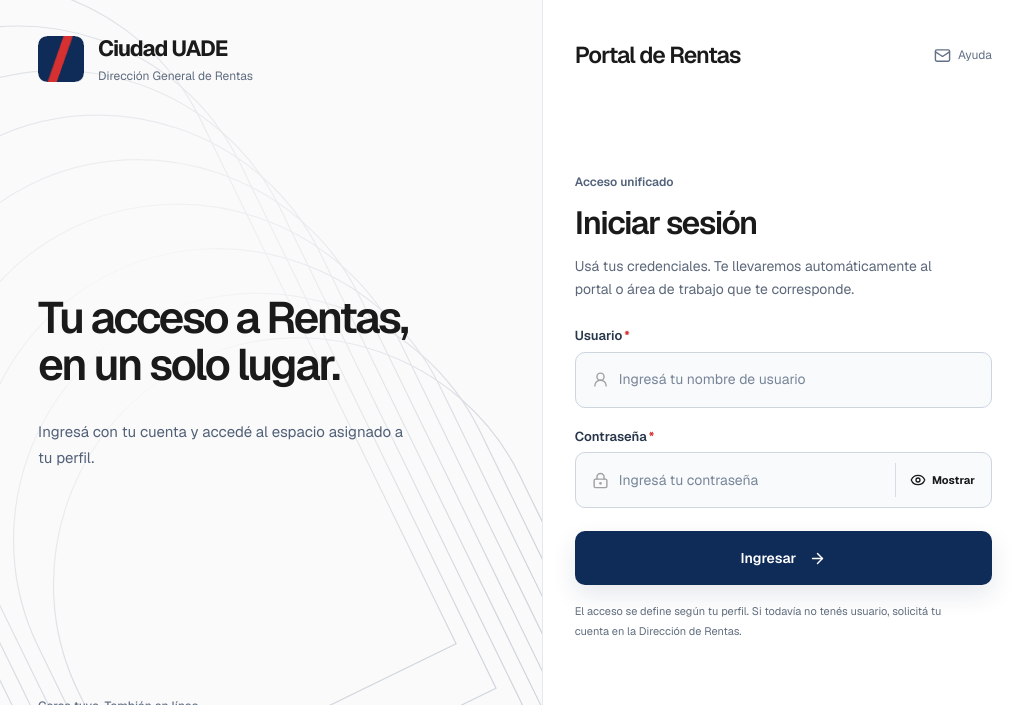
ingreso al área de trabajo › deriva al agente a su área después de autenticarlo
The width and height of the screenshot is (1024, 705).
Type "mrivas" into the field labelled "Usuario*" at coordinates (797, 380), box 619,366 -> 975,394
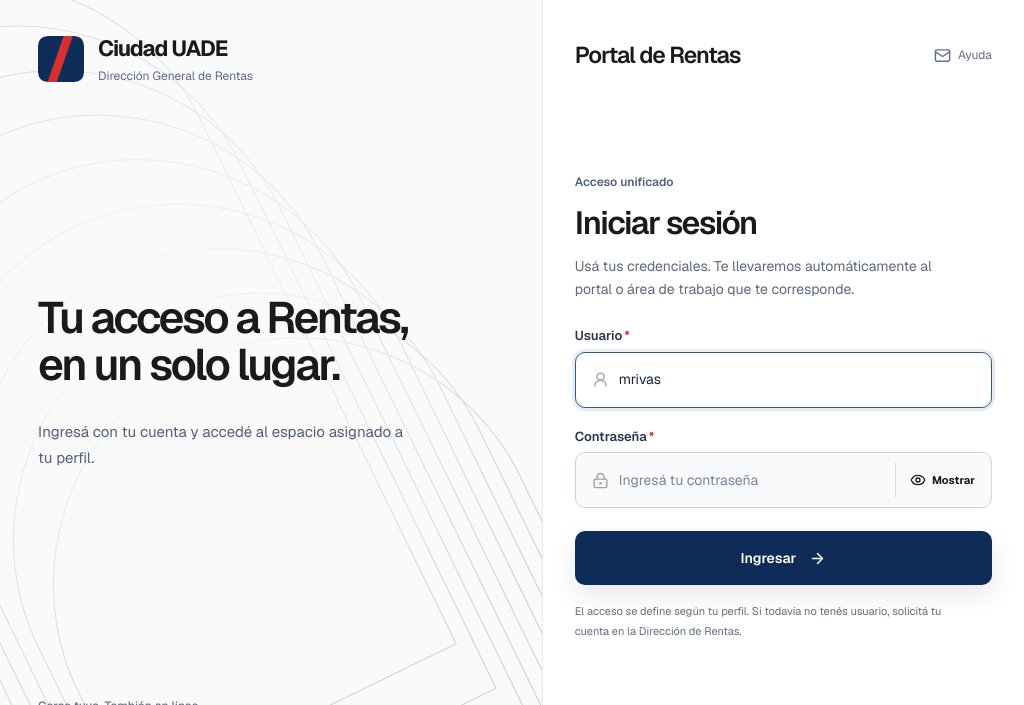
Type "rentas123" into the password field labelled "Contraseña*" at coordinates (750, 480), box 619,466 -> 881,494
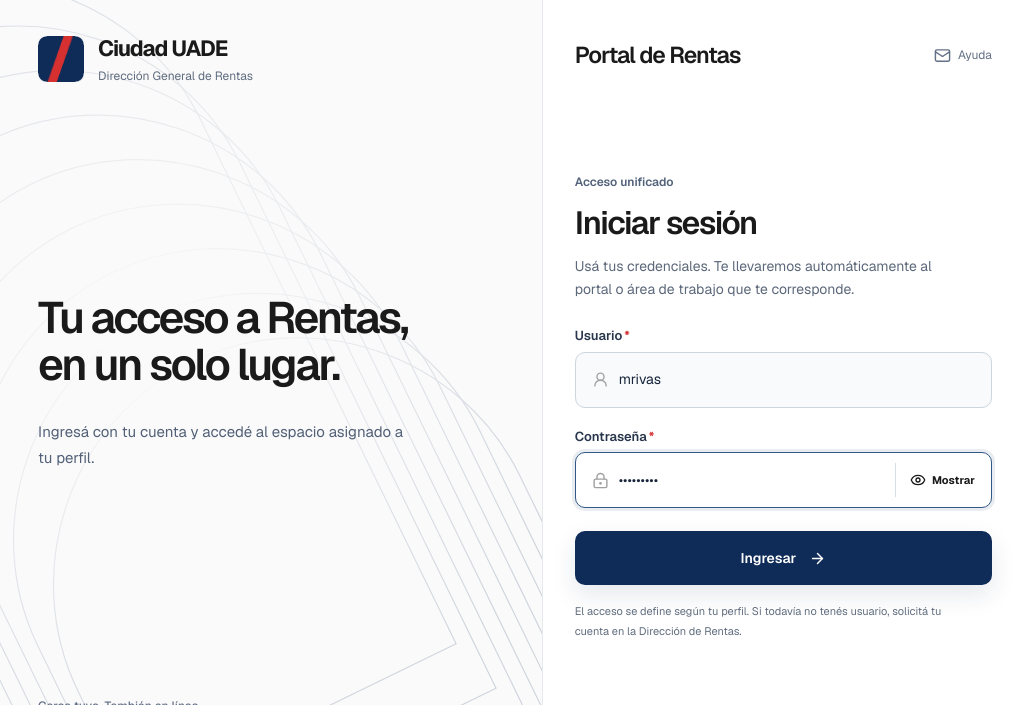
Click the button "Ingresar" at coordinates (783, 558), box 575,531 -> 992,585
(page scrolled)
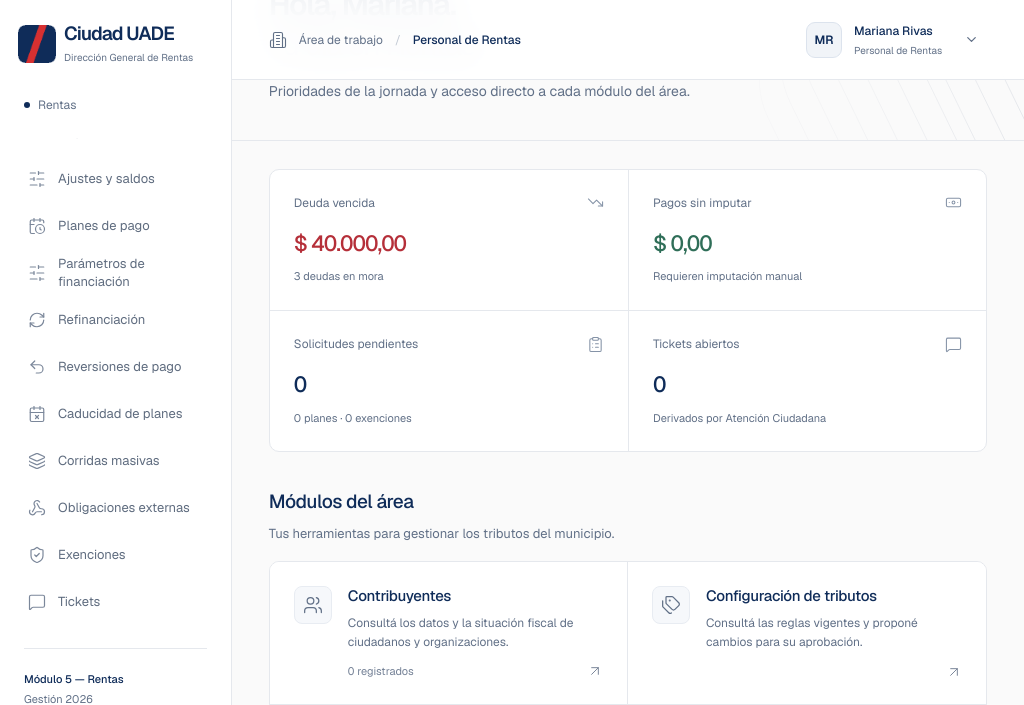
Check: the link "Exenciones" is shown, box 28,546 -> 126,564
